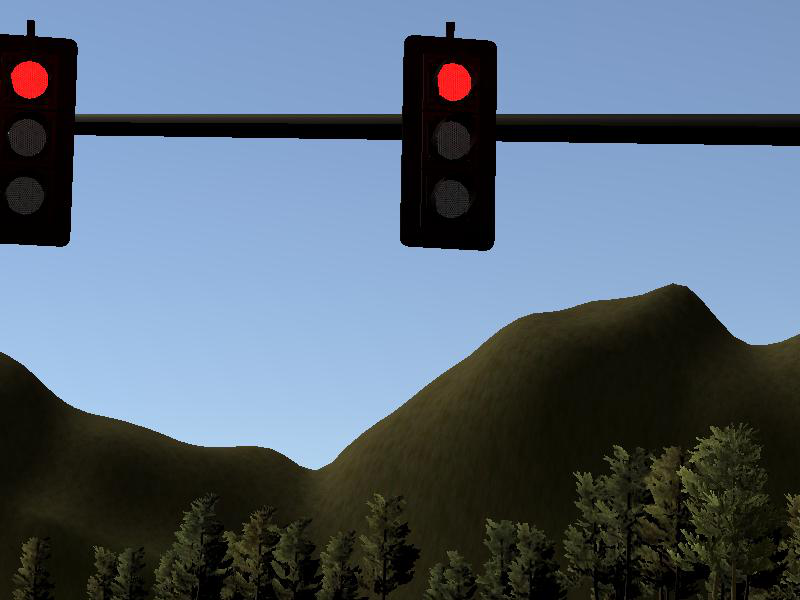red: (401, 36, 495, 248), (1, 38, 77, 245)
